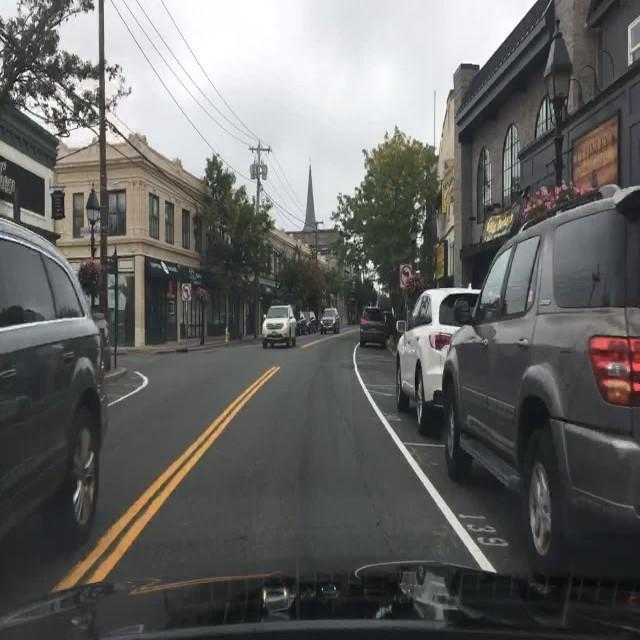normal: (444, 180, 640, 621), (0, 216, 106, 628), (394, 287, 483, 431), (360, 305, 398, 349), (262, 306, 298, 349), (318, 307, 341, 334)
